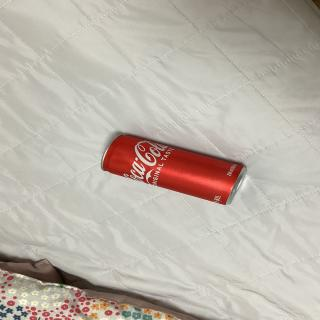cocacola: (93, 127, 252, 213)
